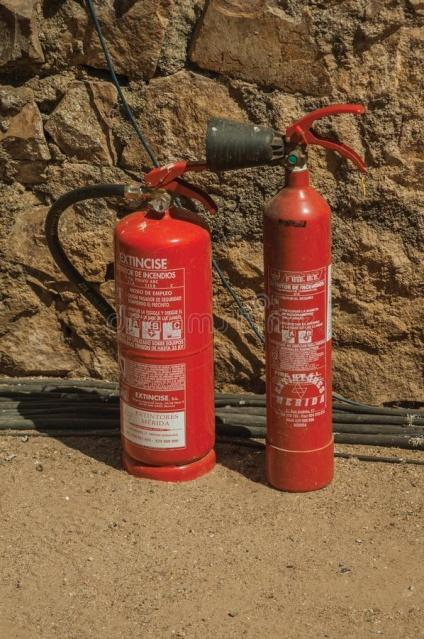APAR: (261, 101, 367, 491), (111, 158, 223, 481)
